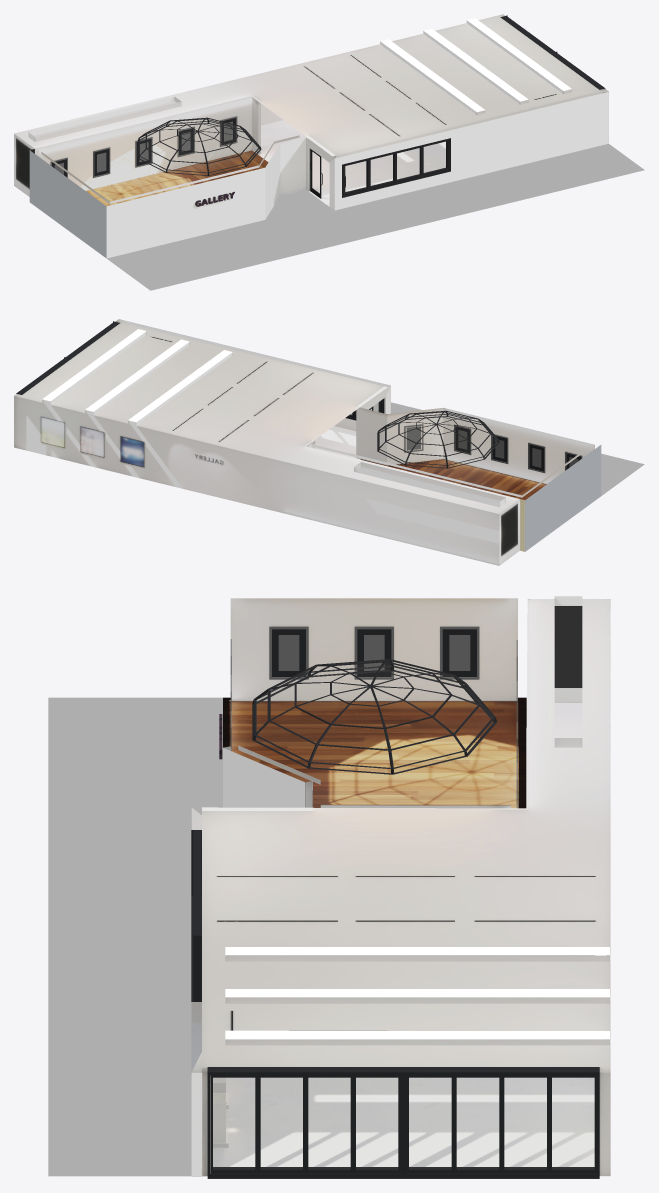
File: art-gallery17.glb
3 renders of one model, top to bottom at view 1: azimuth 30°, elevation 25°; view 2: azimuth 150°, elevation 25°; view 3: azimuth 270°, elevation 25°, orthographic. The views are drawn at different scales.
Parts seen in each view (by area): view 1: ParedesPrincipais, Paredes, Chao_entrada.001, Chao_entrada, Chao_madeira, LuzesEmission, Metais, Sphere.002, Todos os quadros; view 2: ParedesPrincipais, Paredes, LuzesEmission, Chao_madeira, Sphere.002, Todos os quadros, Chao_entrada.001, Chao_entrada, Metais; view 3: ParedesPrincipais, Chao_entrada.001, Chao_entrada, Paredes, Chao_madeira, Metais, LuzesEmission, Todos os quadros, Sphere.002.
Part boxes in pixels (<box>): ParedesPrincipais: <box>14,14,608,210</box>; Paredes: <box>29,98,334,258</box>; Chao_entrada.001: <box>107,144,644,290</box>; Chao_entrada: <box>252,120,445,206</box>; Chao_madeira: <box>86,150,268,206</box>; LuzesEmission: <box>380,18,571,111</box>; Metais: <box>310,15,605,198</box>; Sphere.002: <box>138,117,261,175</box>; Todos os quadros: <box>50,116,237,177</box>; ParedesPrincipais: <box>14,319,524,565</box>; Paredes: <box>309,385,601,551</box>; LuzesEmission: <box>42,329,232,422</box>; Chao_madeira: <box>360,459,546,499</box>; Sphere.002: <box>377,410,499,468</box>; Todos os quadros: <box>404,424,582,472</box>; Chao_entrada.001: <box>350,402,644,495</box>; Chao_entrada: <box>312,426,360,459</box>; Metais: <box>16,321,384,439</box>; ParedesPrincipais: <box>191,596,610,1175</box>; Chao_entrada.001: <box>48,697,222,1176</box>; Chao_entrada: <box>191,702,610,1176</box>; Paredes: <box>223,598,517,808</box>; Chao_madeira: <box>223,697,526,808</box>; Metais: <box>191,830,599,1178</box>; LuzesEmission: <box>225,947,609,1039</box>; Todos os quadros: <box>230,606,582,808</box>; Sphere.002: <box>252,659,496,774</box>.
Size of the model in its own units: 62.24 by 8.29 by 30.8.
Materials: 20 (8 with a texture image).
